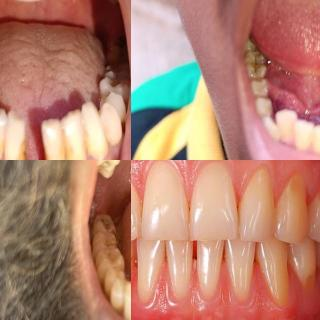Gum Swelling: (183, 262, 285, 320), (226, 160, 298, 203), (168, 160, 222, 206), (151, 264, 184, 320), (131, 267, 151, 318)
calculus: (4, 151, 24, 160)
cavities: (106, 32, 131, 64), (250, 50, 266, 82), (96, 209, 113, 231)
maligned: (291, 116, 316, 152), (278, 106, 300, 146), (315, 118, 320, 159)
